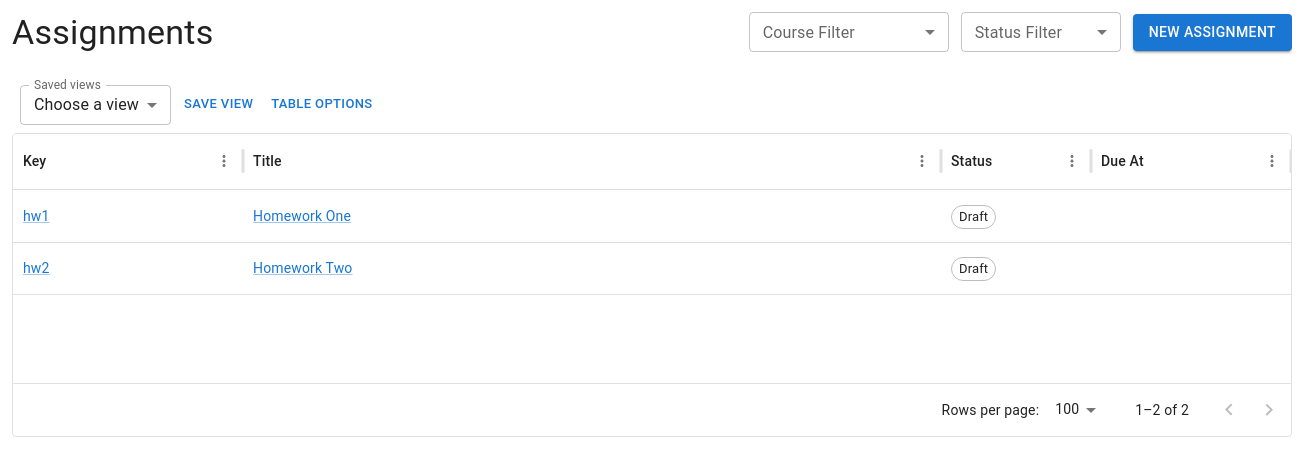
Scenario: bounded instructor lists › loads every assignment and every course available to its filters
expect the link "Homework Two" is shown: met, box [253,260,352,276]
expect the text "Rows per page:" is shown: met, box [942,400,1039,420]
Step 1. Click the dropdown named "Course Filter" next to "Course Filter" → click(849, 32), box [749,12,949,52]
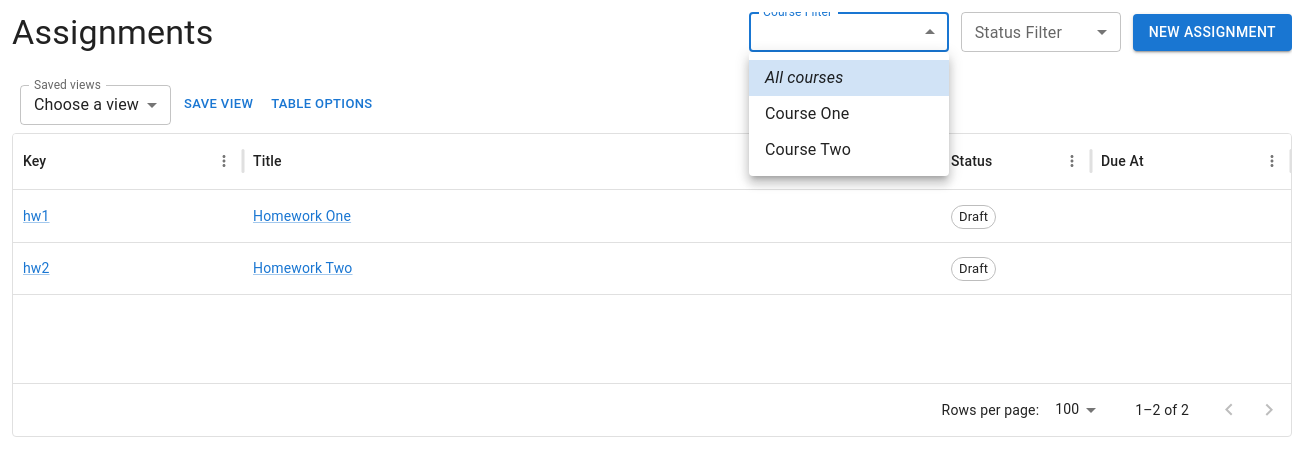
expect the option "Course Two" is shown: met, box [765,140,851,159]
